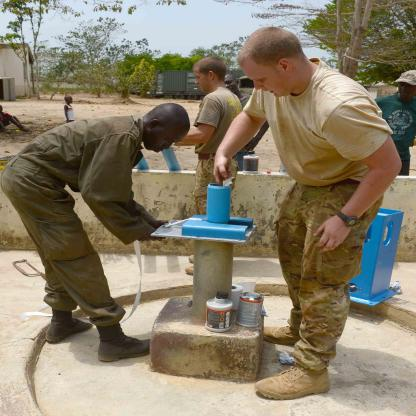face: (240, 61, 291, 98), (148, 123, 189, 154), (194, 69, 210, 94), (399, 82, 416, 99), (222, 77, 239, 94), (68, 99, 73, 104)
